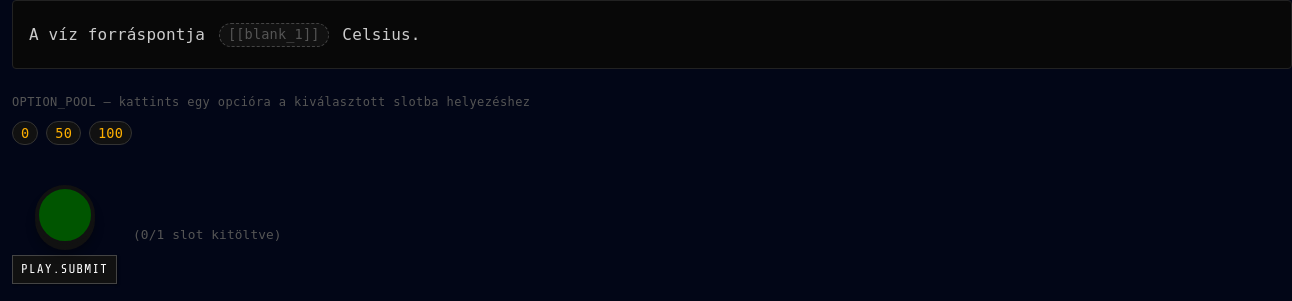
FillInBlankView › Kitöltött slot kattintás → visszakerül a pool-ba
Expected: the text "100" is shown, 98,125 -> 123,141
// Slot-ba tesszük a "100"-at
Click the button "100": (110,133) 89,121 -> 132,145
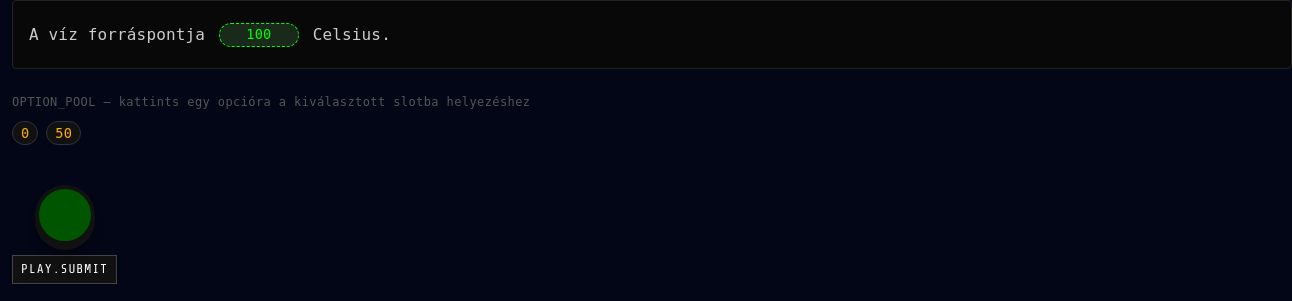
Expected: the text "100" is shown once, 246,26 -> 271,42
// Kattintunk a slotra (a [ [blank_1]] szöveg helyett most "100" látszik)
Click the button "100": (259,35) 219,23 -> 299,47
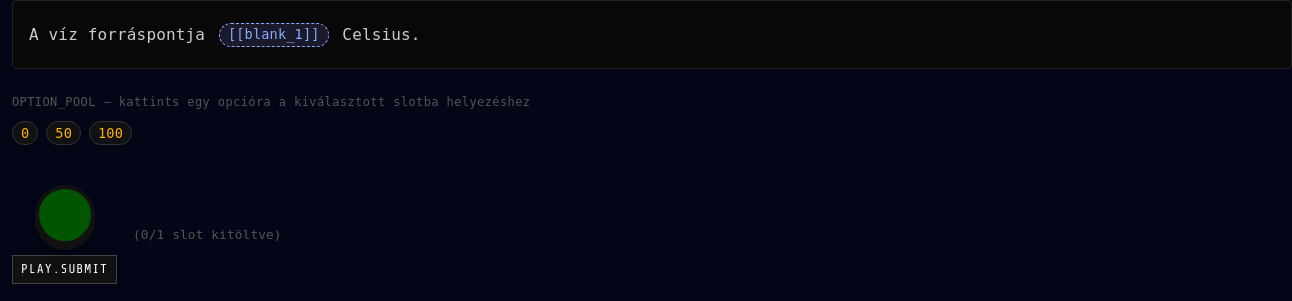
Expected: the text "100" is shown, 98,125 -> 123,141
Expected: the text "[ [blank_1]]" is shown, 220,24 -> 328,45
